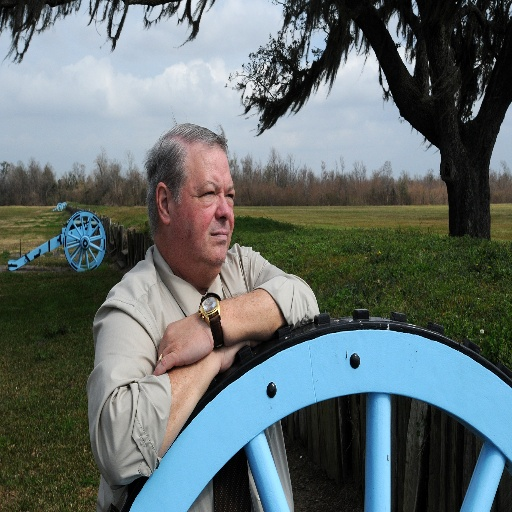hand: (158, 322, 212, 381), (216, 339, 257, 373)
